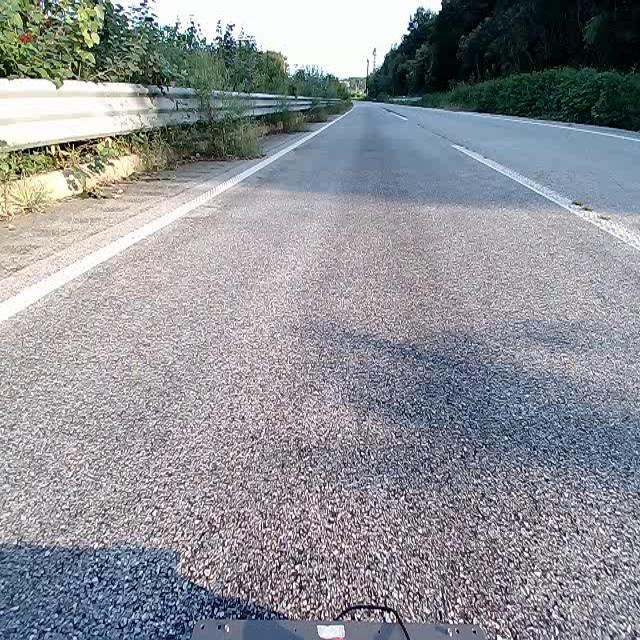Lane: (0, 100, 357, 337), (0, 111, 350, 324), (382, 102, 640, 318), (451, 143, 639, 251), (494, 115, 639, 141), (383, 108, 407, 119)
